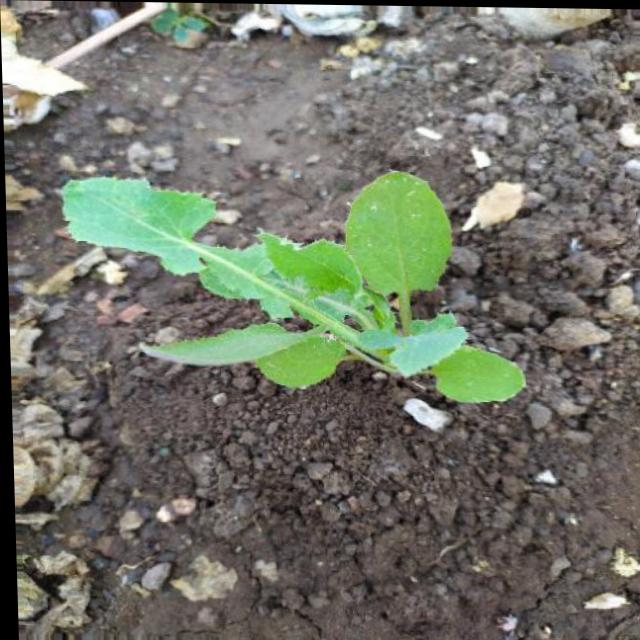weed: (59, 142, 533, 465)
